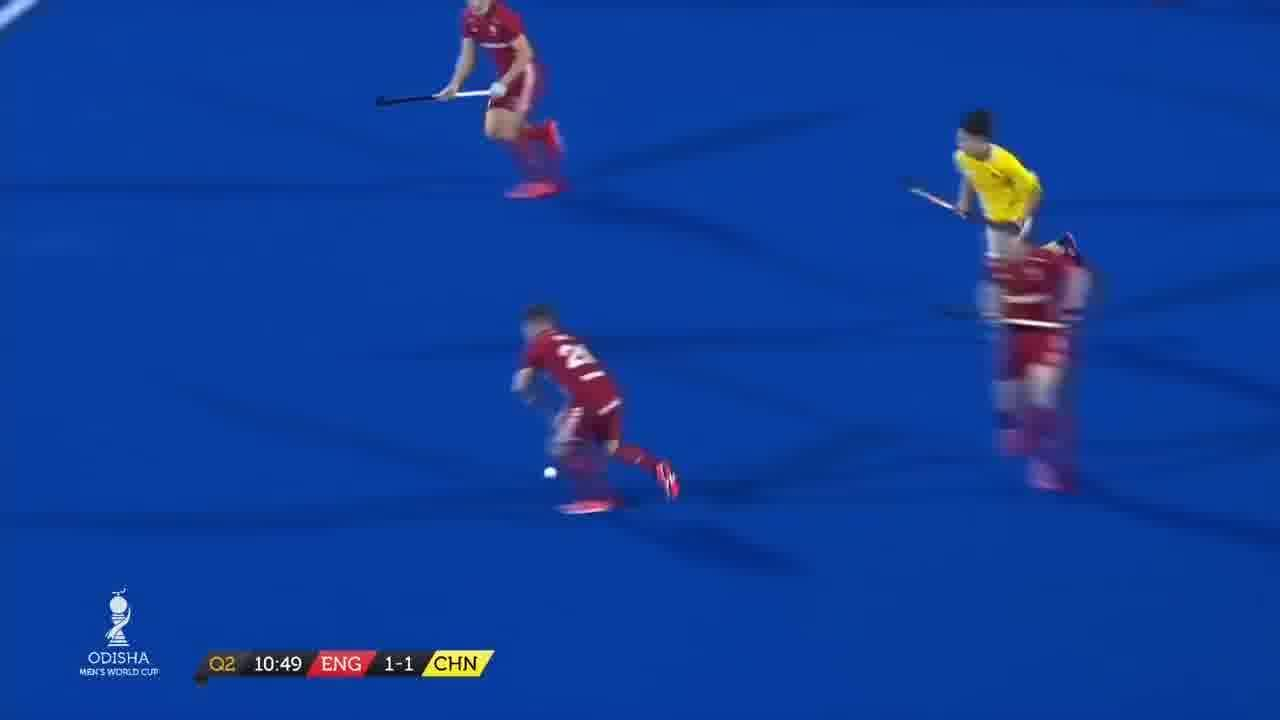ball: (542, 456, 558, 488)
